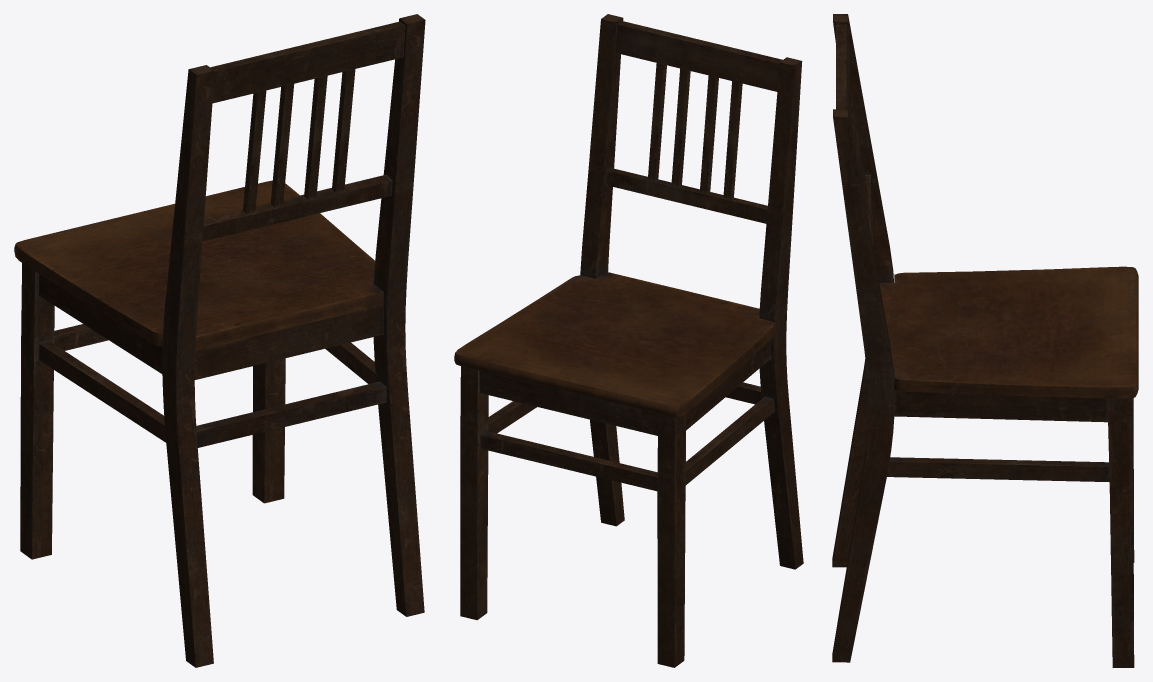
The model's file is ARC0510168.fbx.
The picture shows the model from 3 angles, left to right: view 1: azimuth 30°, elevation 25°; view 2: azimuth 150°, elevation 25°; view 3: azimuth 270°, elevation 25°; orthographic projection. The views are drawn at different scales.
Parts seen in each view (by area): view 1: smARC0510168; view 2: smARC0510168; view 3: smARC0510168.
Boxes of the visible parts, bbox=[...] form: smARC0510168: bbox=[14, 14, 425, 667]; smARC0510168: bbox=[454, 14, 803, 667]; smARC0510168: bbox=[832, 14, 1138, 667].
Size of the model in its own units: 64.36 by 137 by 69.44.
1 material, 1 textured.
